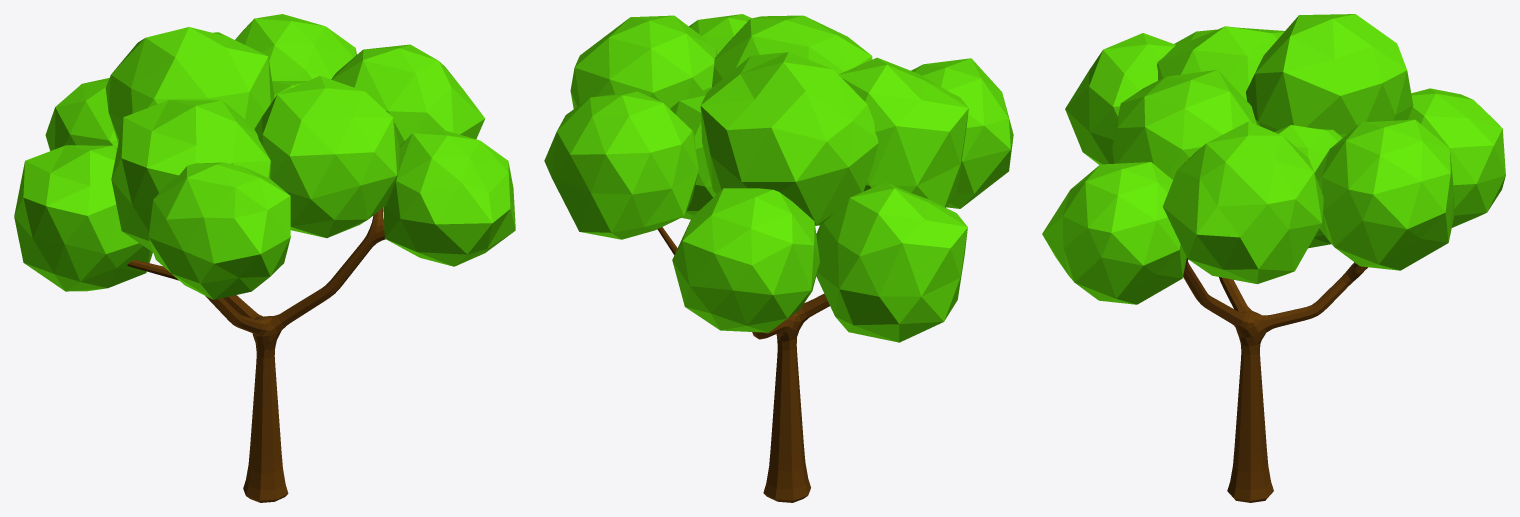
Rendered from Tree03.fbx.
3 views of the same model, side by side, from view 1: azimuth 30°, elevation 25°; view 2: azimuth 150°, elevation 25°; view 3: azimuth 270°, elevation 25° (orthographic). The views are drawn at different scales.
Parts seen in each view (by area): view 1: t1leaf, t1root; view 2: t1leaf, t1root; view 3: t1leaf, t1root.
Part boxes in pixels (x1,y1,x2,y2): t1leaf: (14, 14, 515, 299); t1root: (127, 208, 385, 502); t1leaf: (544, 14, 1013, 342); t1root: (657, 227, 829, 502); t1leaf: (1042, 14, 1505, 304); t1root: (1183, 257, 1367, 502).
Size of the model in its own units: 1075 by 1163 by 1064.
